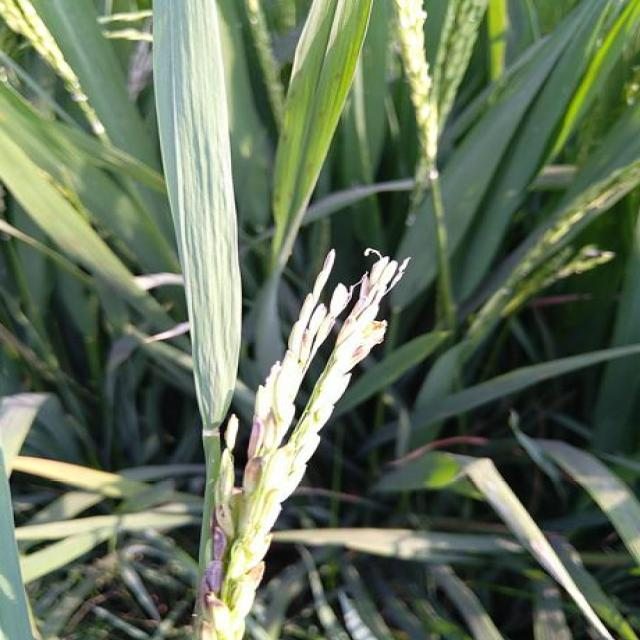Panicle Blight: (331, 273, 388, 374), (200, 512, 227, 622), (243, 428, 269, 493)
